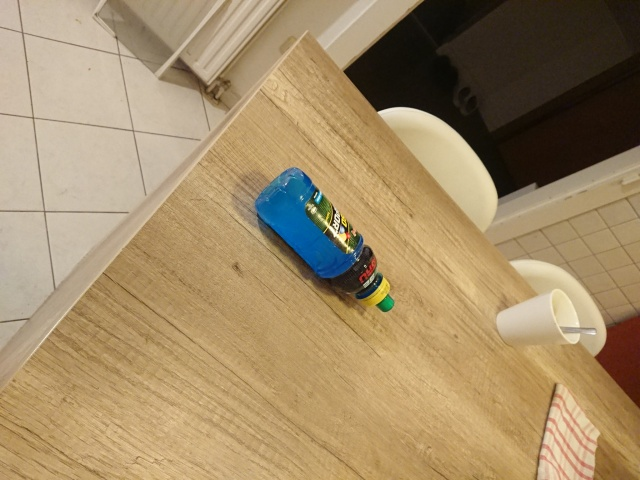Vindi Iso Sport Forest Strawberries 500mL: (252, 165, 396, 313)
